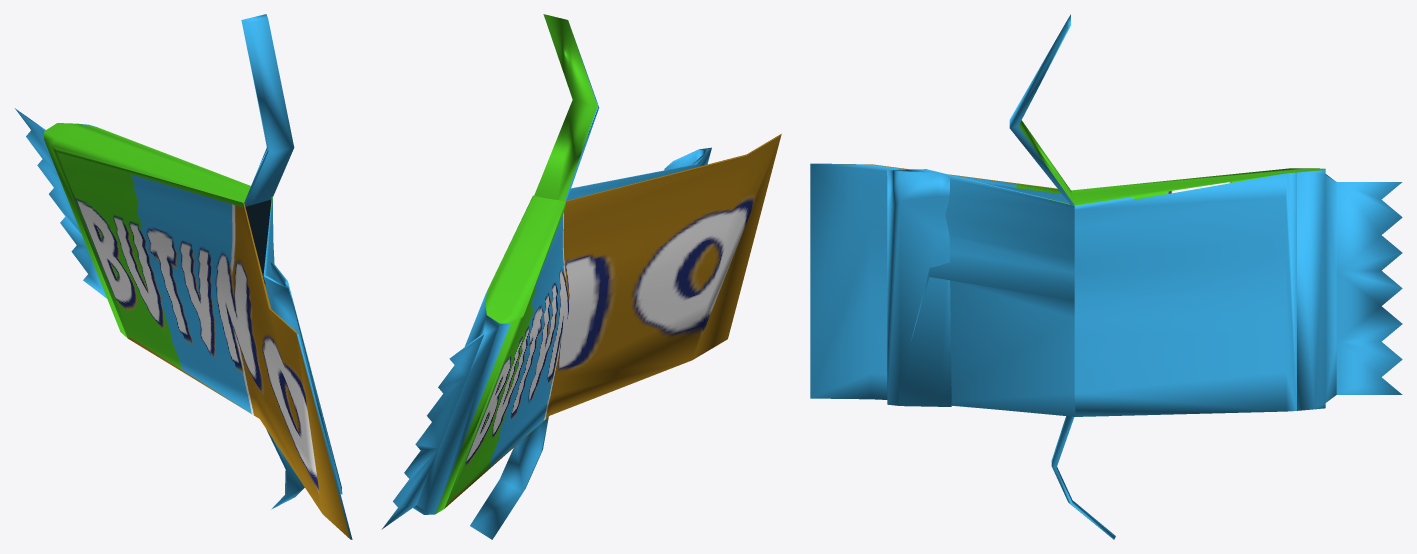
The model's file is baunsi1.fbx.
3 renders of one model, left to right at view 1: azimuth 30°, elevation 25°; view 2: azimuth 150°, elevation 25°; view 3: azimuth 270°, elevation 25°, orthographic. The views are drawn at different scales.
Visible parts, largest first — view 1: Baunsi zguzvan1.001; view 2: Baunsi zguzvan1.001; view 3: Baunsi zguzvan1.001.
Boxes of the visible parts, x1,y1,x2,y2 form: Baunsi zguzvan1.001: [15, 14, 352, 539]; Baunsi zguzvan1.001: [381, 14, 781, 539]; Baunsi zguzvan1.001: [810, 14, 1402, 539].
Bounding box in the file's own units: 5.88 × 20.13 × 18.64.
Materials: 2 (1 with a texture image).
